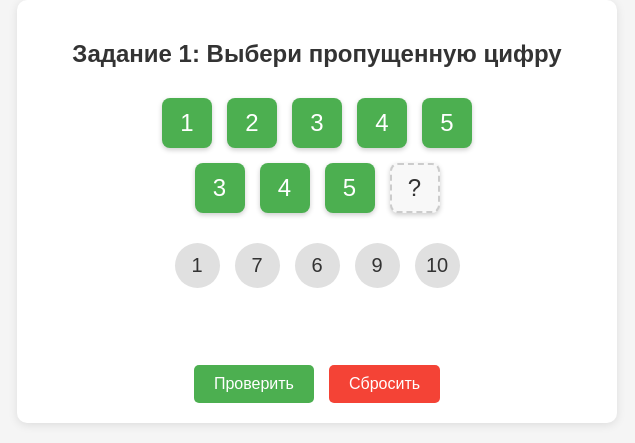
Scenario: MissingNumberGame › marks game as completed on correct answer
Step 1. Click the text with test id "option-6" → (317, 265), box [294,243,340,288]
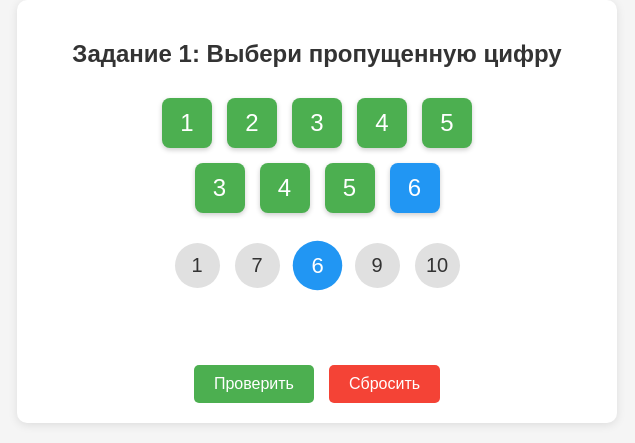
Step 2. Click the button "Проверить" → (254, 384), box [194,365,314,403]
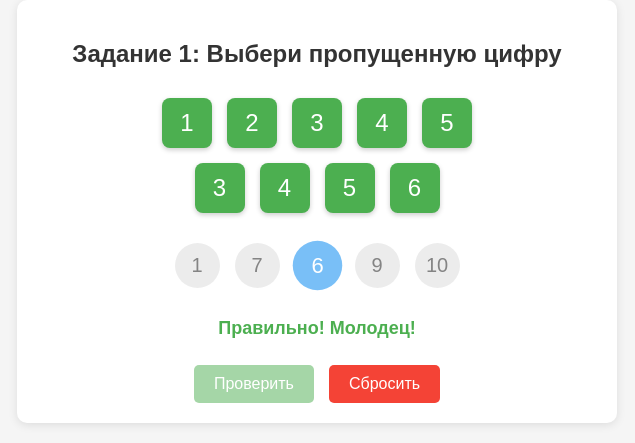
Result: the text "Правильно! Молодец!" is shown at [218,318,416,338]
Result: the button "Проверить" is disabled at [194,365,314,403]
